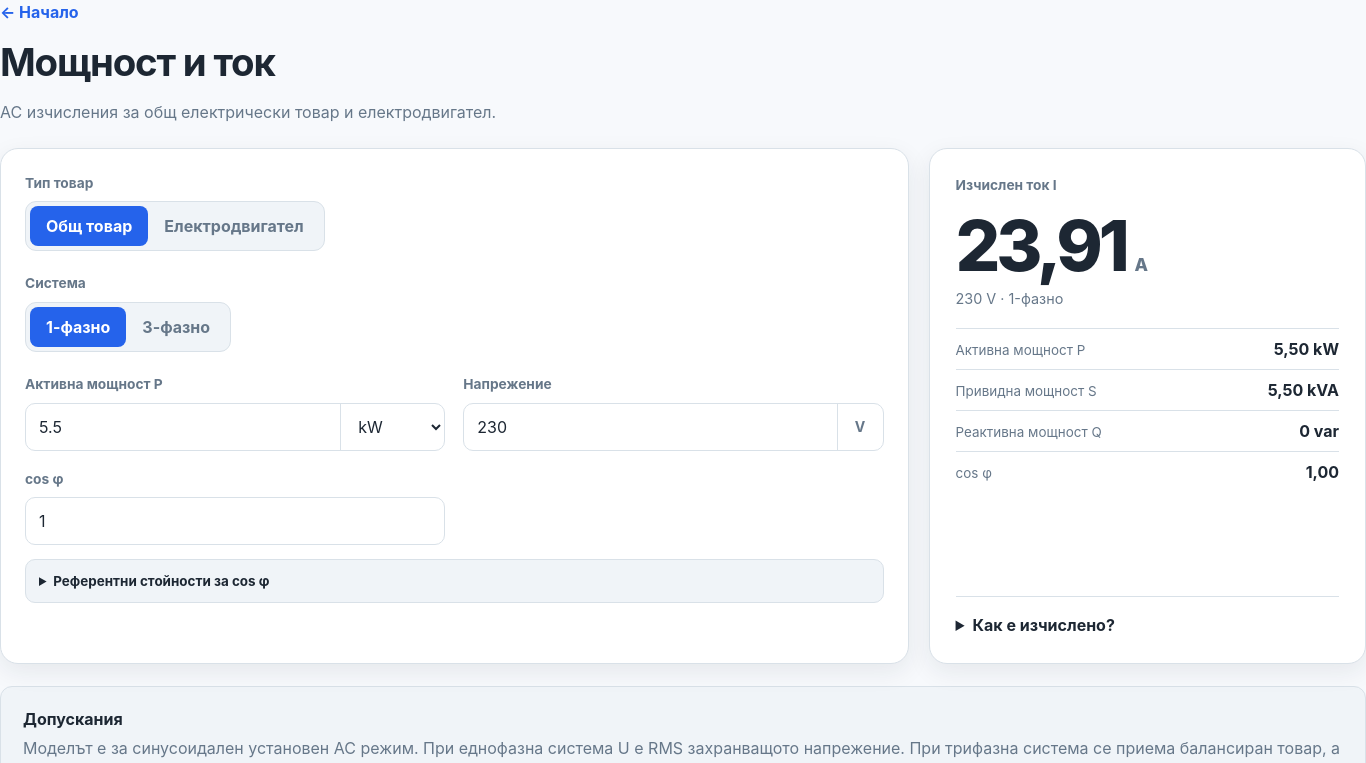
it: PowerCurrentCalculator › shows mode-dependent assumptions
Click the button "Електродвигател" at (234, 226), box [148,206,320,246]
(page scrolled)
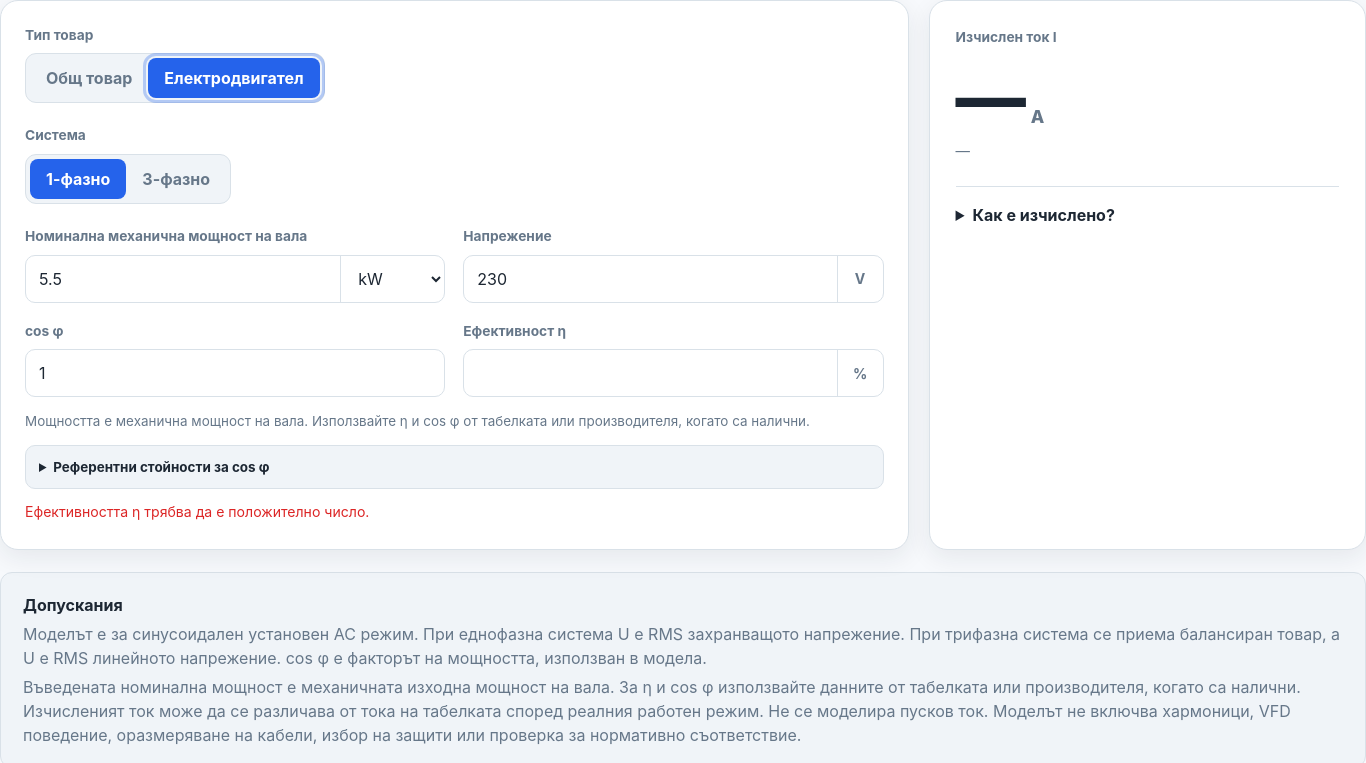
Check: the text "Изчисленият ток може да се различава от тока на табелката" is shown, box [23,678,1301,722]
